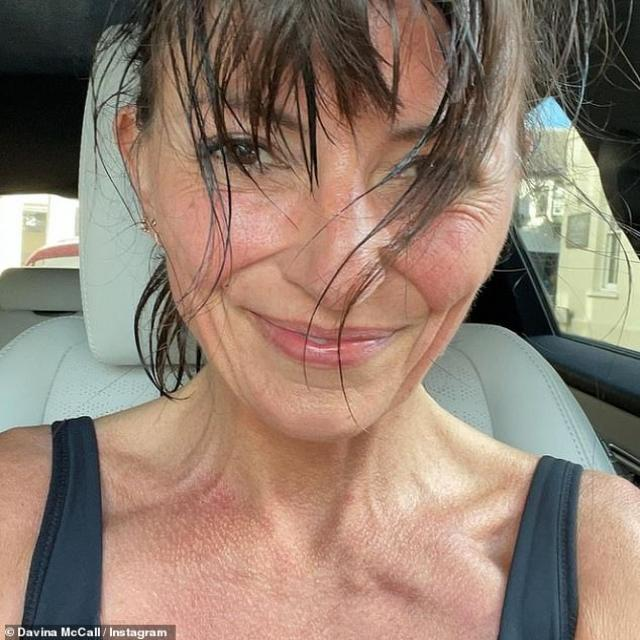earlobe: (134, 194, 164, 246)
eye: (203, 132, 297, 174), (389, 153, 484, 192)
nose: (286, 282, 393, 346)
wholeear: (112, 105, 164, 246)
